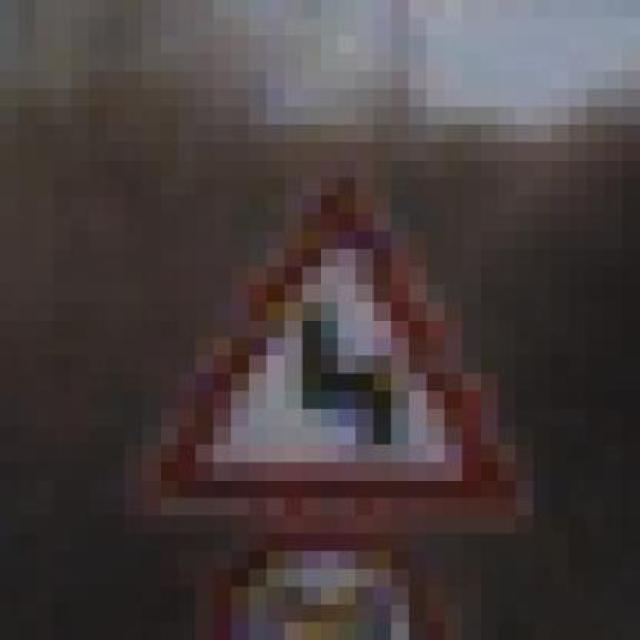Left Zig Zag Traffic: (89, 142, 552, 533)
